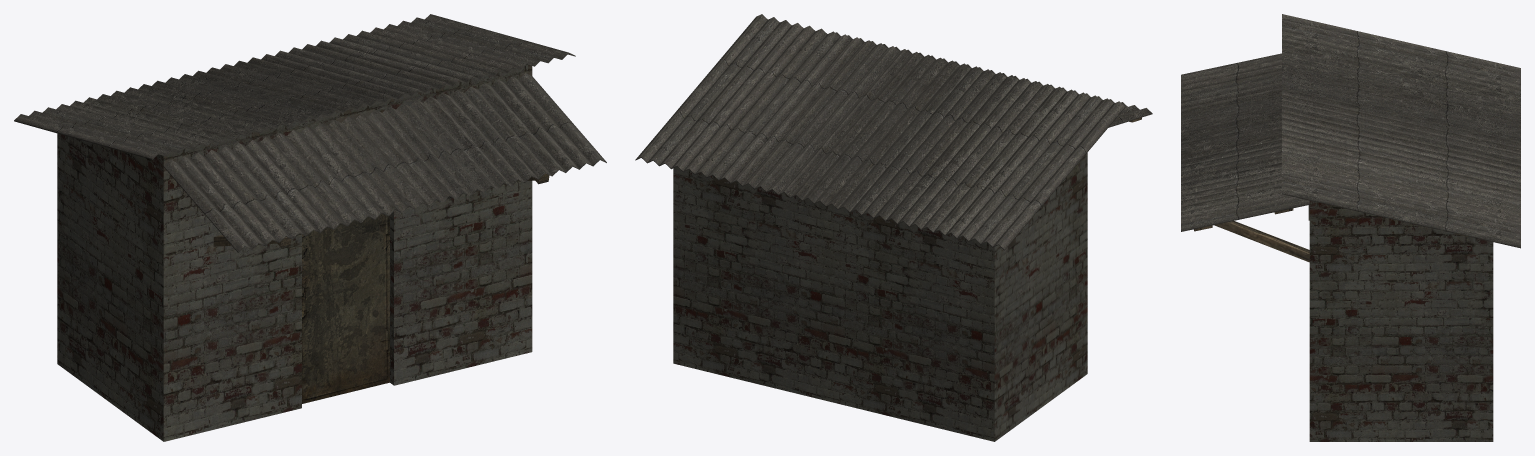
File: shed_ax_2.dae
3 renders of one model, left to right at view 1: azimuth 30°, elevation 25°; view 2: azimuth 150°, elevation 25°; view 3: azimuth 270°, elevation 25°, orthographic. The views are drawn at different scales.
Parts seen in each view (by area): view 1: shed_ax_2, door_hr_3; view 2: shed_ax_2; view 3: shed_ax_2.
Boxes of the visible parts, <box> form: shed_ax_2: <box>14,14,606,441</box>; door_hr_3: <box>302,213,389,403</box>; shed_ax_2: <box>635,14,1152,441</box>; shed_ax_2: <box>1181,14,1520,441</box>.
Bounding box in the file's own units: 4.59 × 3.7 × 3.17.
Materials: 5 (5 with a texture image).
